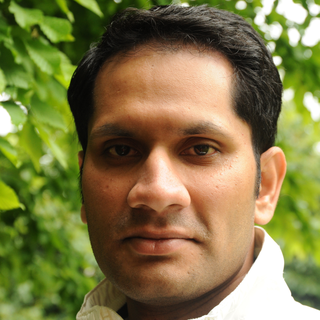eye: (98, 138, 147, 163), (177, 139, 221, 162)
